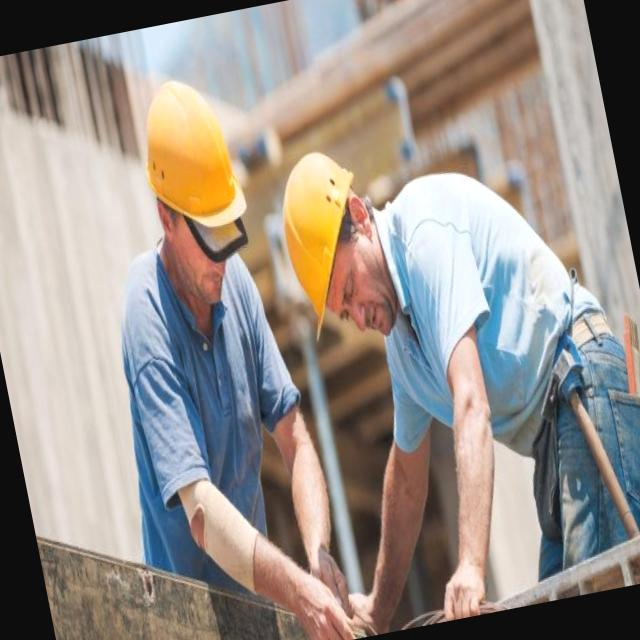helmet: (268, 140, 388, 356), (126, 72, 256, 255)
no-vest: (105, 236, 350, 640), (357, 151, 596, 524)
